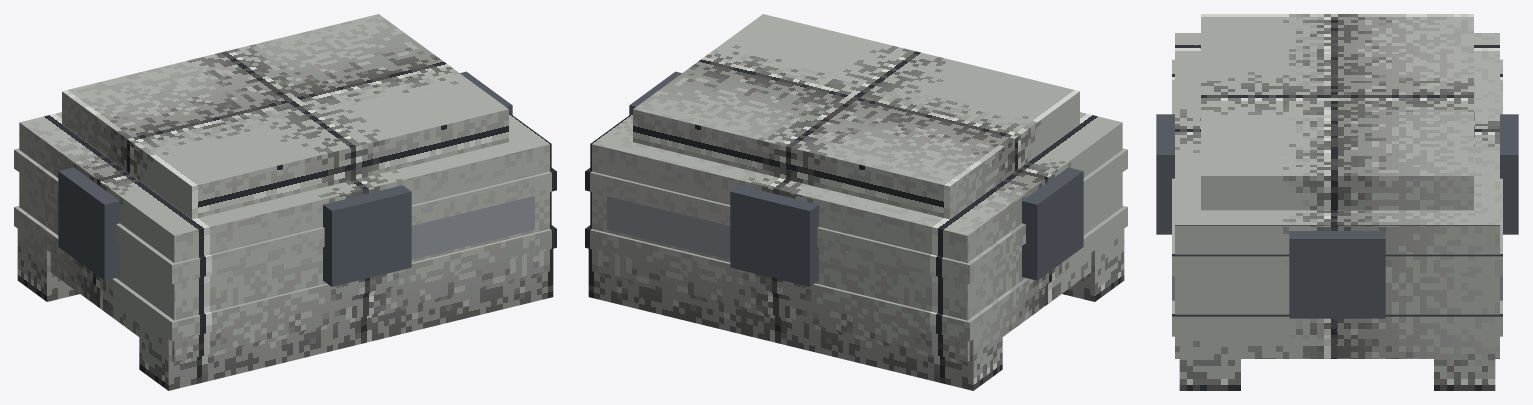
The model's file is phys_ballast.glb.
The picture shows the model from 3 angles, left to right: view 1: azimuth 30°, elevation 25°; view 2: azimuth 150°, elevation 25°; view 3: azimuth 270°, elevation 25°; orthographic projection. The views are drawn at different scales.
Parts seen in each view (by area): view 1: phys_ballast, attach_pad_0, attach_pad_2, lightened_panel_0; view 2: phys_ballast, attach_pad_1, attach_pad_2, lightened_panel_1; view 3: phys_ballast, attach_pad_3, attach_pad_0, attach_pad_1.
Part boxes in pixels (x1,y1,x2,y2): phys_ballast: [14, 14, 556, 390]; attach_pad_0: [323, 185, 411, 286]; attach_pad_2: [58, 167, 119, 280]; lightened_panel_0: [411, 196, 534, 259]; phys_ballast: [585, 14, 1127, 390]; attach_pad_1: [730, 185, 818, 286]; attach_pad_2: [1022, 167, 1083, 280]; lightened_panel_1: [607, 196, 730, 259]; phys_ballast: [1172, 14, 1502, 390]; attach_pad_3: [1289, 231, 1385, 318]; attach_pad_0: [1156, 114, 1174, 234]; attach_pad_1: [1500, 114, 1518, 234].
Size of the model in its own units: 1.12 by 0.4968 by 0.825.
3 materials, 1 textured.
